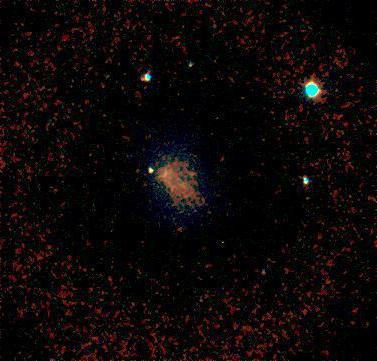star: (246, 253, 276, 283)
